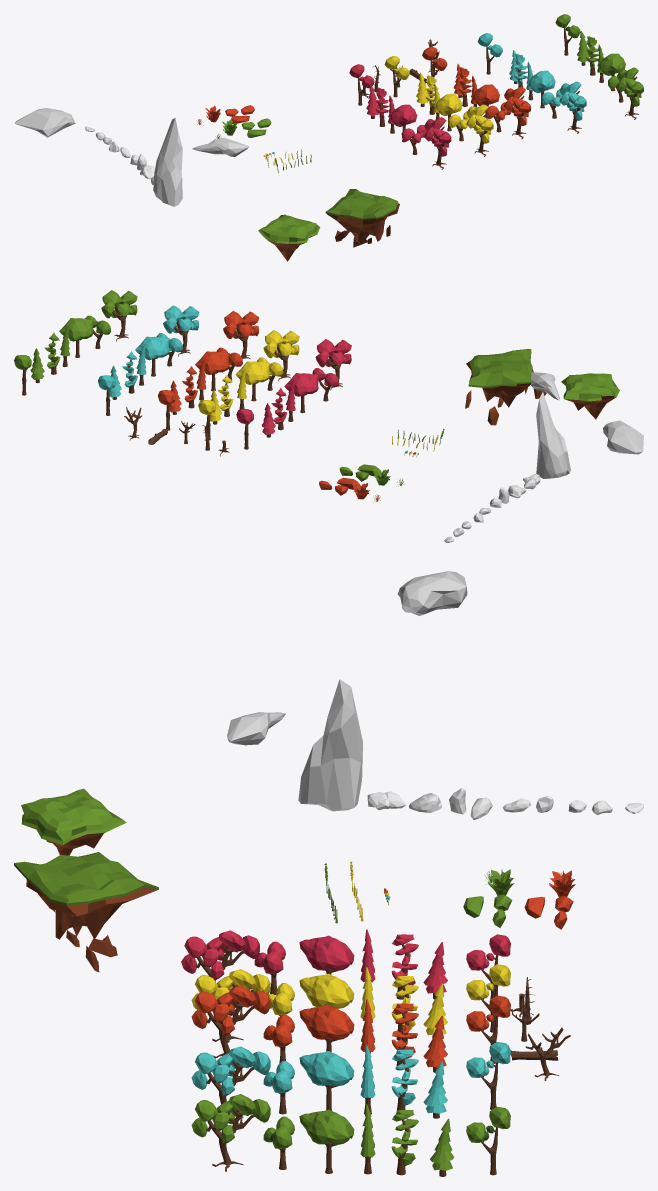
The model's file is Forest.fbx.
3 renders of one model, top to bottom at view 1: azimuth 30°, elevation 25°; view 2: azimuth 150°, elevation 25°; view 3: azimuth 270°, elevation 25°, orthographic. The views are drawn at different scales.
Visible parts, largest first — view 1: L1, r10, L2, cloud2, t1-yellow, t1-green, t1-cyan, t1-purple, t1-orange, cloud1, t3-cyan, t3-yellow (+9 smaller); view 2: L1, r10, L2, cloud2, t1-green, t1-yellow, t1-cyan, t1-orange, t1-purple, t3-purple, t3-orange, t3-cyan (+4 smaller); view 3: L1, r10, L2, t1-green, t1-orange, t1-cyan, cloud2, t1-purple, t3-green, t3-cyan, t3-orange, t3-purple (+13 smaller).
Part boxes in pixels (box(x1,y1,x2,y2)): L1: box(325, 189, 399, 247); r10: box(153, 118, 182, 206); L2: box(258, 214, 320, 261); cloud2: box(14, 108, 75, 137); t1-yellow: box(466, 104, 493, 156); t1-green: box(616, 67, 643, 119); t1-cyan: box(559, 81, 586, 133); t1-purple: box(424, 117, 451, 169); t1-orange: box(504, 87, 530, 139); cloud1: box(192, 137, 248, 156); t3-cyan: box(528, 70, 555, 108); t3-yellow: box(435, 93, 462, 131); L1: box(465, 349, 546, 425); r10: box(536, 392, 570, 478); L2: box(561, 373, 619, 419); cloud2: box(603, 420, 643, 454); t1-green: box(101, 290, 137, 341); t1-yellow: box(263, 330, 299, 381); t1-cyan: box(163, 305, 199, 356); t1-orange: box(223, 311, 259, 358); t1-purple: box(315, 339, 351, 390); t3-purple: box(284, 373, 318, 413); t3-orange: box(195, 351, 229, 391); t3-cyan: box(135, 336, 169, 376); L1: box(14, 852, 158, 972); r10: box(298, 679, 362, 811); L2: box(21, 788, 126, 855); t1-green: box(191, 1094, 270, 1171); t1-orange: box(191, 985, 270, 1058); t1-cyan: box(191, 1046, 270, 1117); cloud2: box(397, 571, 467, 615); t1-purple: box(181, 930, 259, 981); t3-green: box(299, 1109, 354, 1173); t3-cyan: box(299, 1051, 354, 1110); t3-orange: box(299, 1004, 354, 1052); t3-purple: box(299, 935, 354, 974).
Size of what is drawn, in the model's own units: 15781 by 3134 by 8779.
